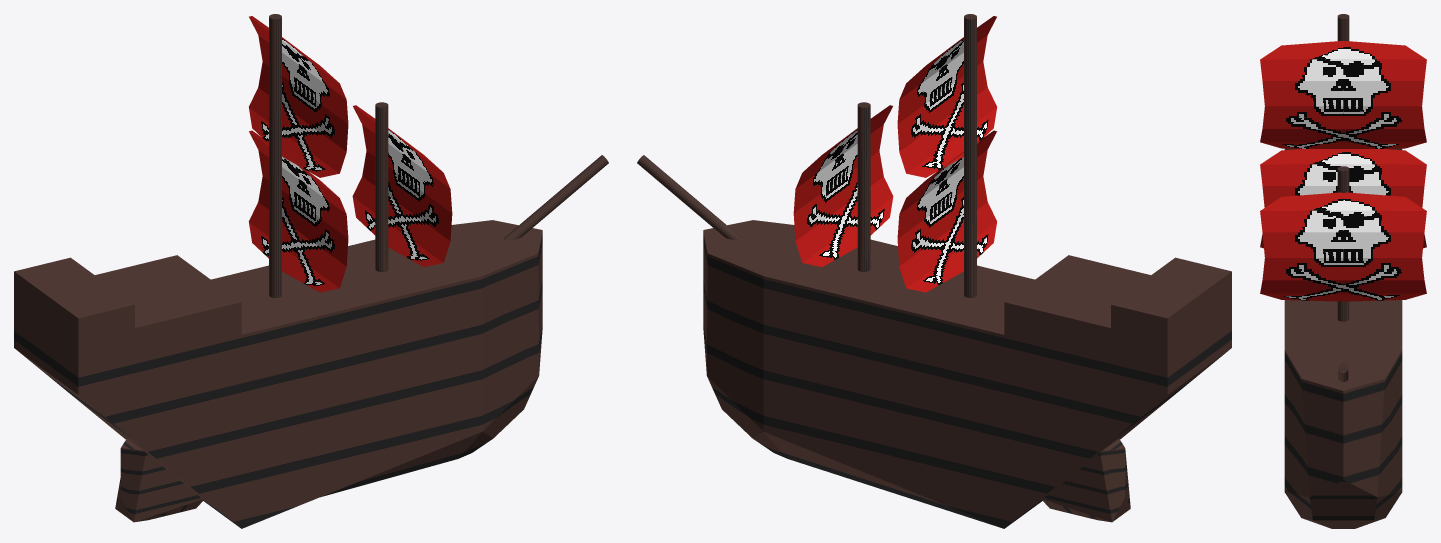
The model's file is Red_Ship.fbx.
3 views of the same model, side by side, from view 1: azimuth 30°, elevation 25°; view 2: azimuth 150°, elevation 25°; view 3: azimuth 270°, elevation 25° (orthographic). The views are drawn at different scales.
Parts seen in each view (by area): view 1: Hull, Sail1.002, Sail1, Sail2, Rudder, Mast2, Mast1, Front Pole; view 2: Hull, Sail1.002, Sail1, Sail2, Rudder, Mast2, Mast1, Front Pole; view 3: Hull, Sail1.002, Sail1, Sail2, Mast1, Mast2.
Boxes of the visible parts, x1,y1,x2,y2 form: Hull: (14,220,542,528); Sail1.002: (352,105,452,266); Sail1: (249,16,348,177); Sail2: (248,130,348,292); Rudder: (115,438,203,522); Mast2: (269,14,281,297); Mast1: (375,102,388,271); Front Pole: (503,155,608,240); Hull: (703,220,1231,528); Sail1.002: (793,105,893,266); Sail1: (897,16,996,177); Sail2: (897,130,997,292); Rudder: (1042,438,1130,522); Mast2: (964,14,976,297); Mast1: (857,102,870,271); Front Pole: (637,155,742,240); Hull: (1284,148,1402,528); Sail1.002: (1260,192,1426,301); Sail1: (1260,40,1426,148); Sail2: (1260,149,1426,248); Mast1: (1337,166,1349,321); Mast2: (1337,14,1349,41).
Size of the model in its own units: 606 by 487 by 170.
